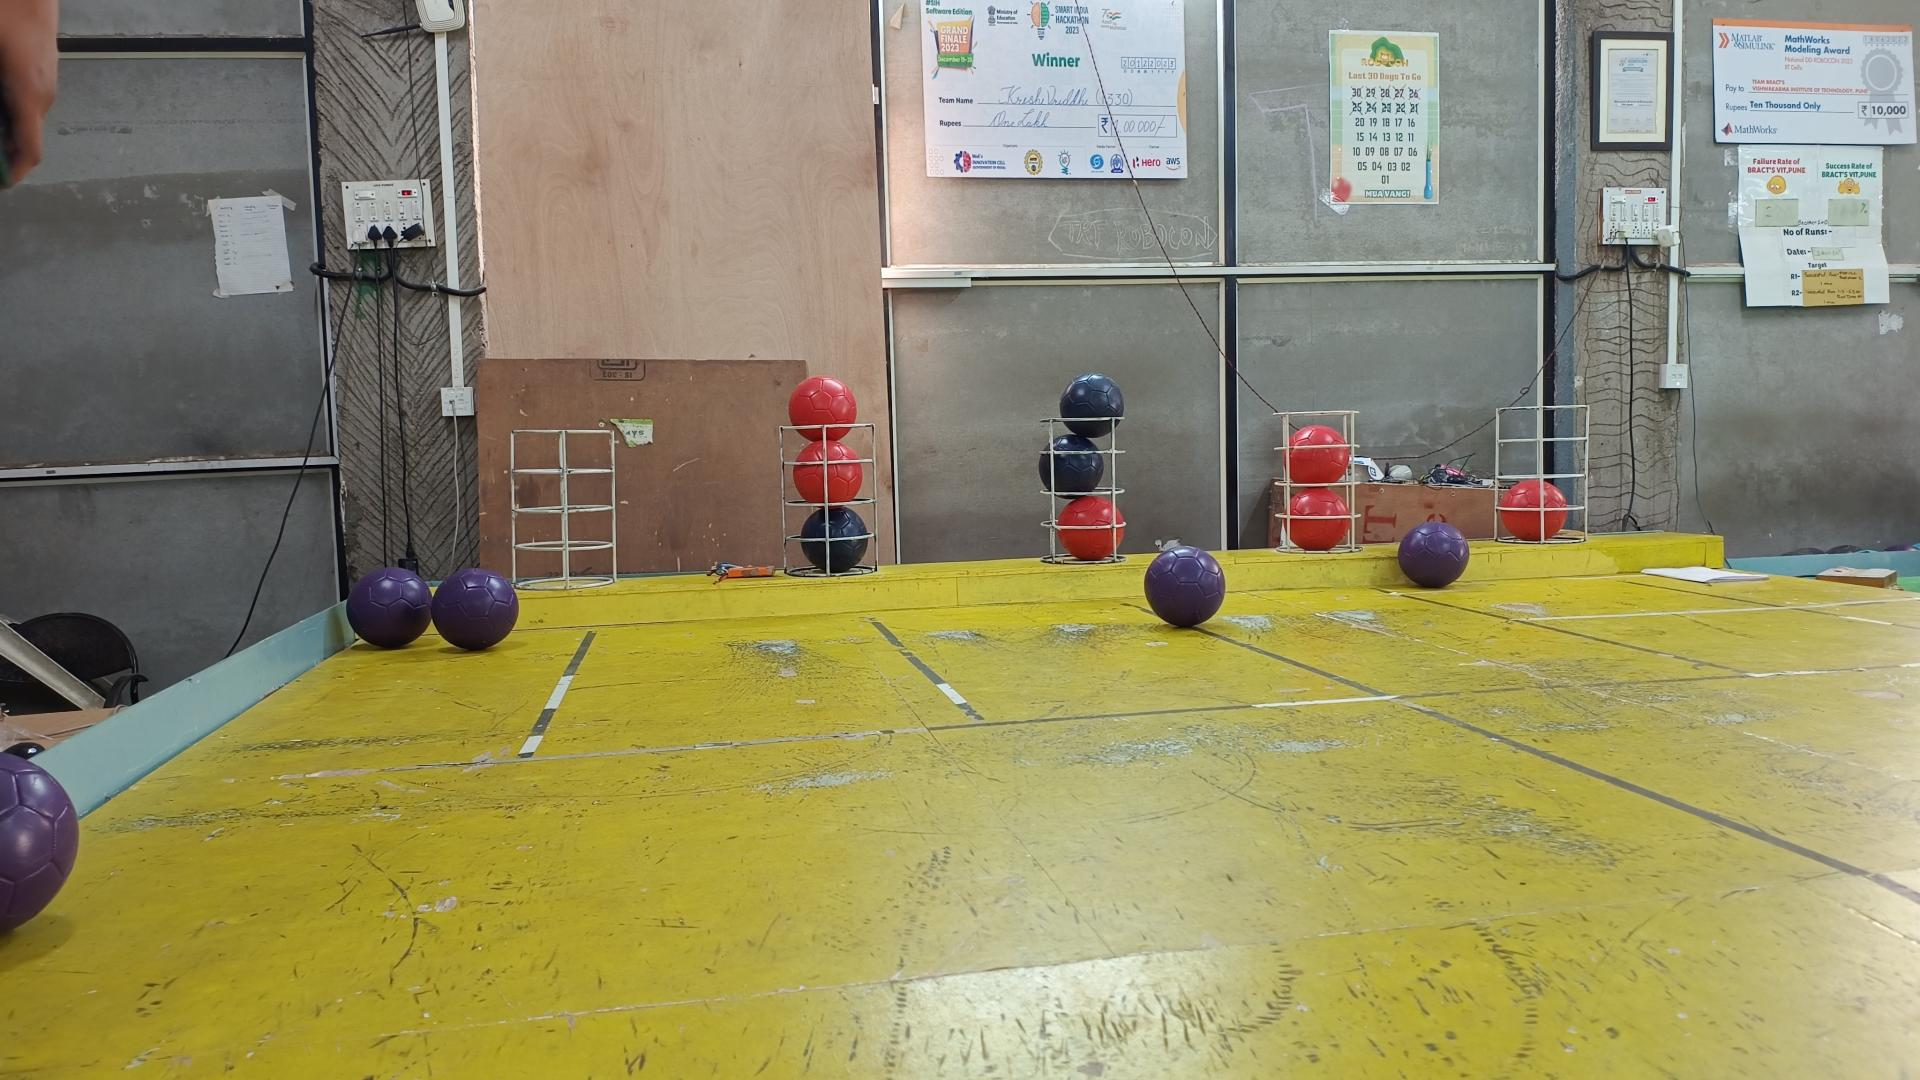dhoka: (799, 506, 870, 574), (1039, 435, 1106, 498), (1062, 375, 1125, 439)
laale: (787, 375, 858, 443), (791, 439, 862, 502), (1058, 495, 1125, 559), (1501, 480, 1568, 541), (1286, 423, 1350, 484), (1290, 488, 1350, 551)
